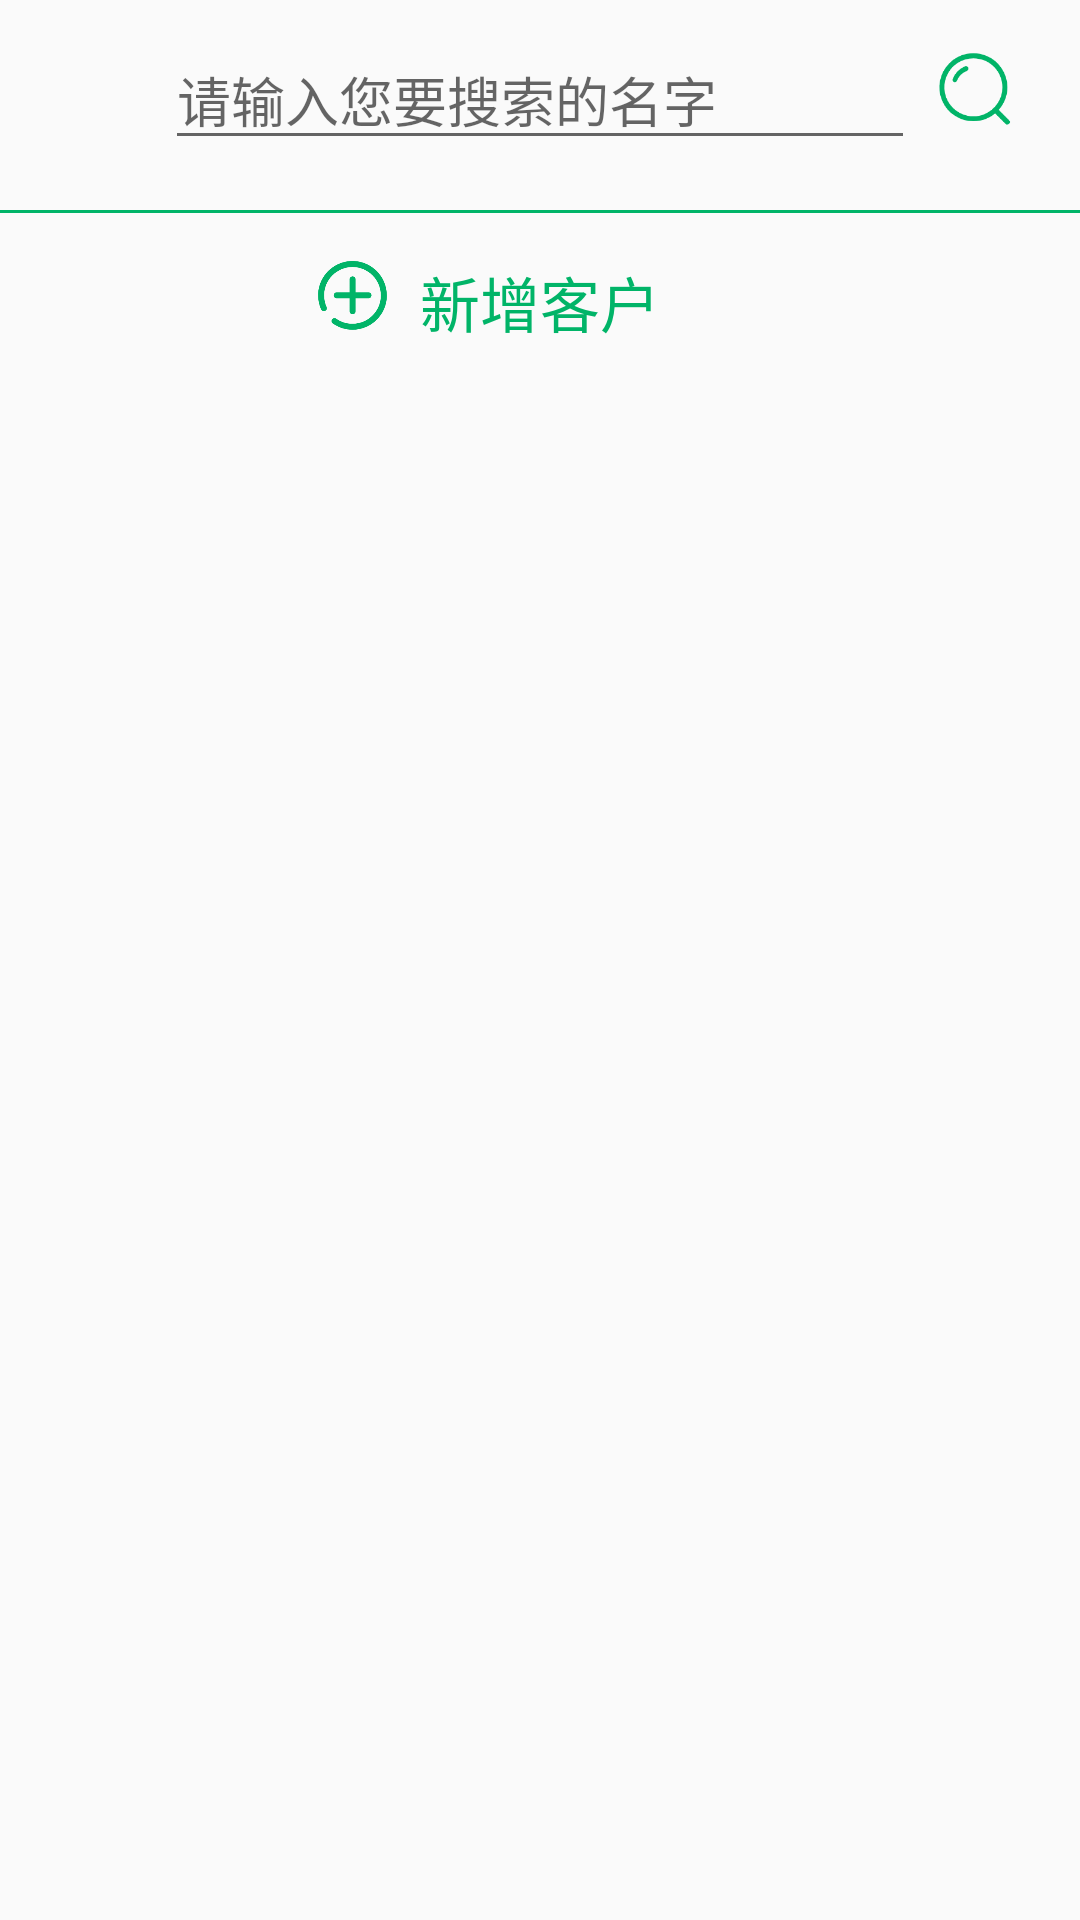

Icons on this 1080px x 1920px Android screen, each with its box as (x1, y1, x2, y2):
add: (318, 261, 387, 330)
search: (939, 53, 1010, 125)
